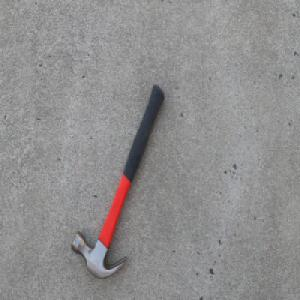Hammer: (70, 83, 165, 280)
